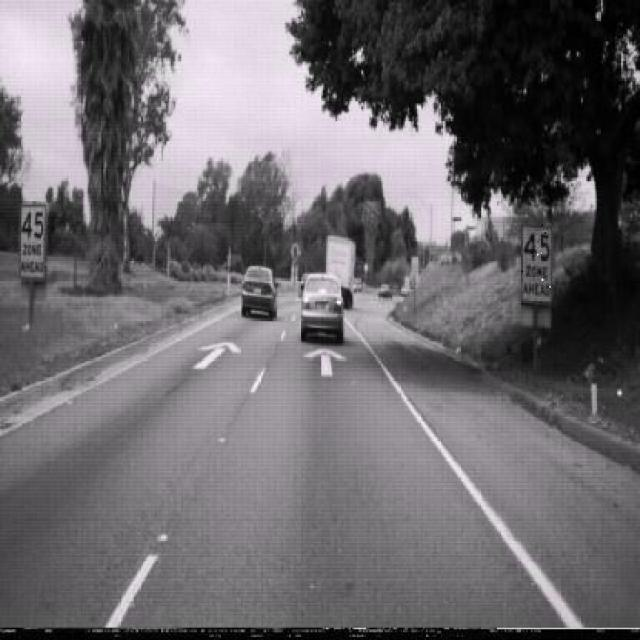zoneAhead45: (520, 222, 554, 306), (18, 202, 47, 284)
